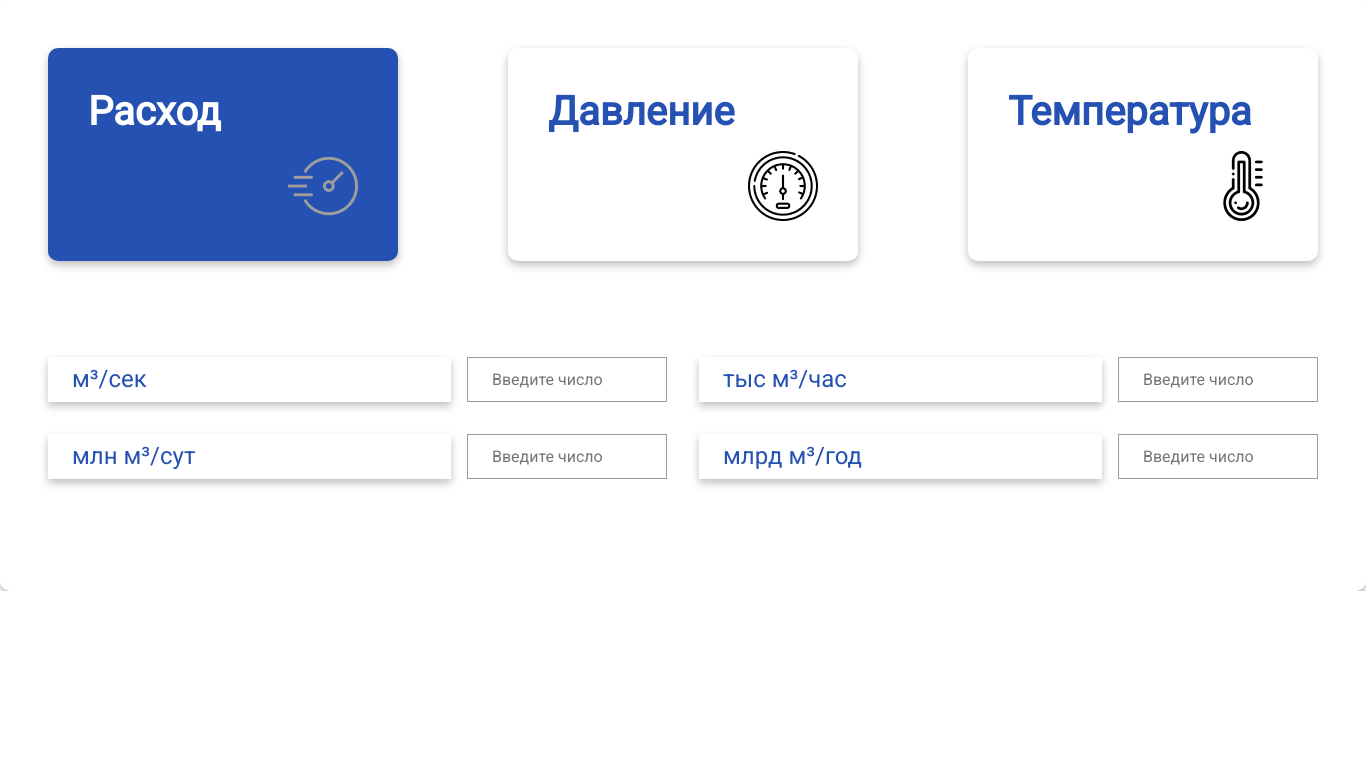
Test: testing Calc component › should toggle forms
The image size is (1366, 768).
Expected: the form with test id "consum-form" is shown, [48, 357, 1318, 479]
Click the text "Давление": (641,112) [548, 88, 734, 135]
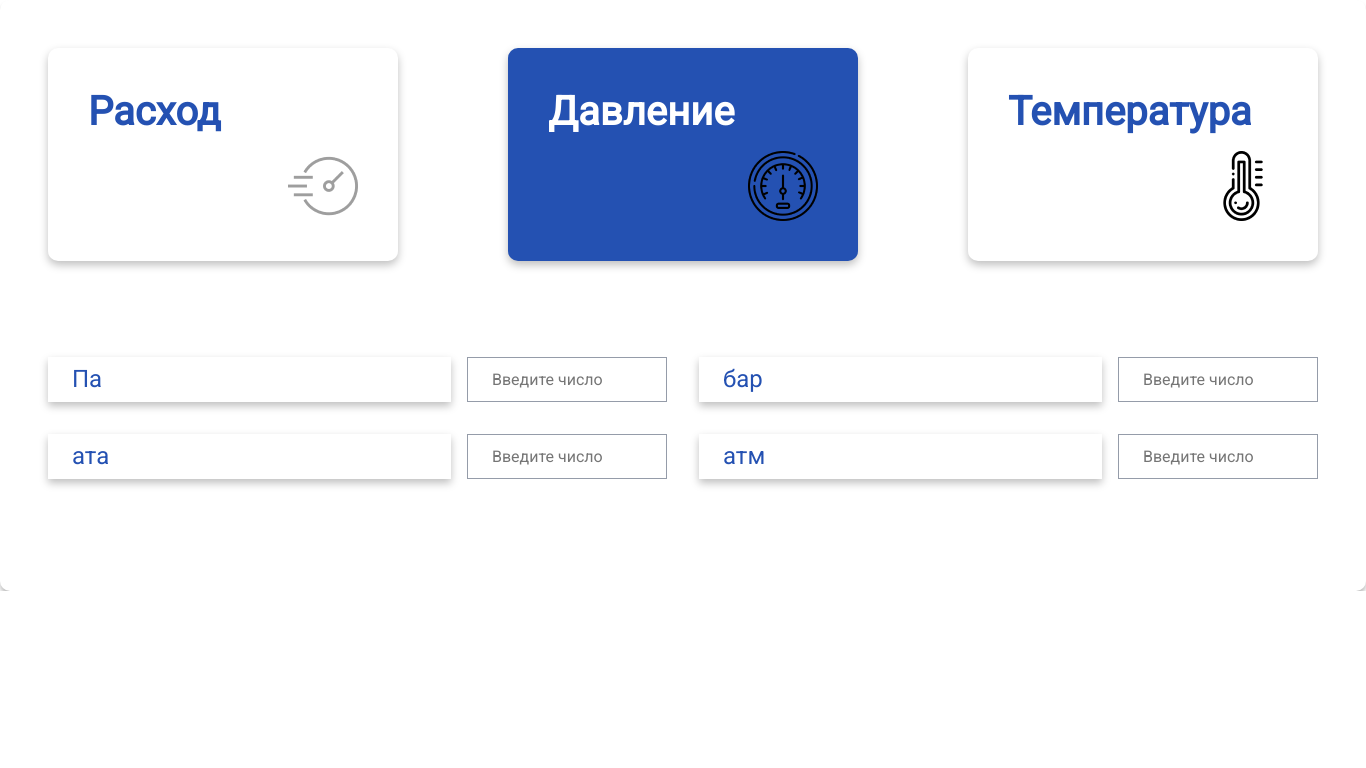
Now the form with test id "consum-form" is gone
Now the form with test id "press-form" is shown, box [48, 357, 1318, 479]
Click the text "Температура": (1143,112) [1008, 88, 1278, 135]
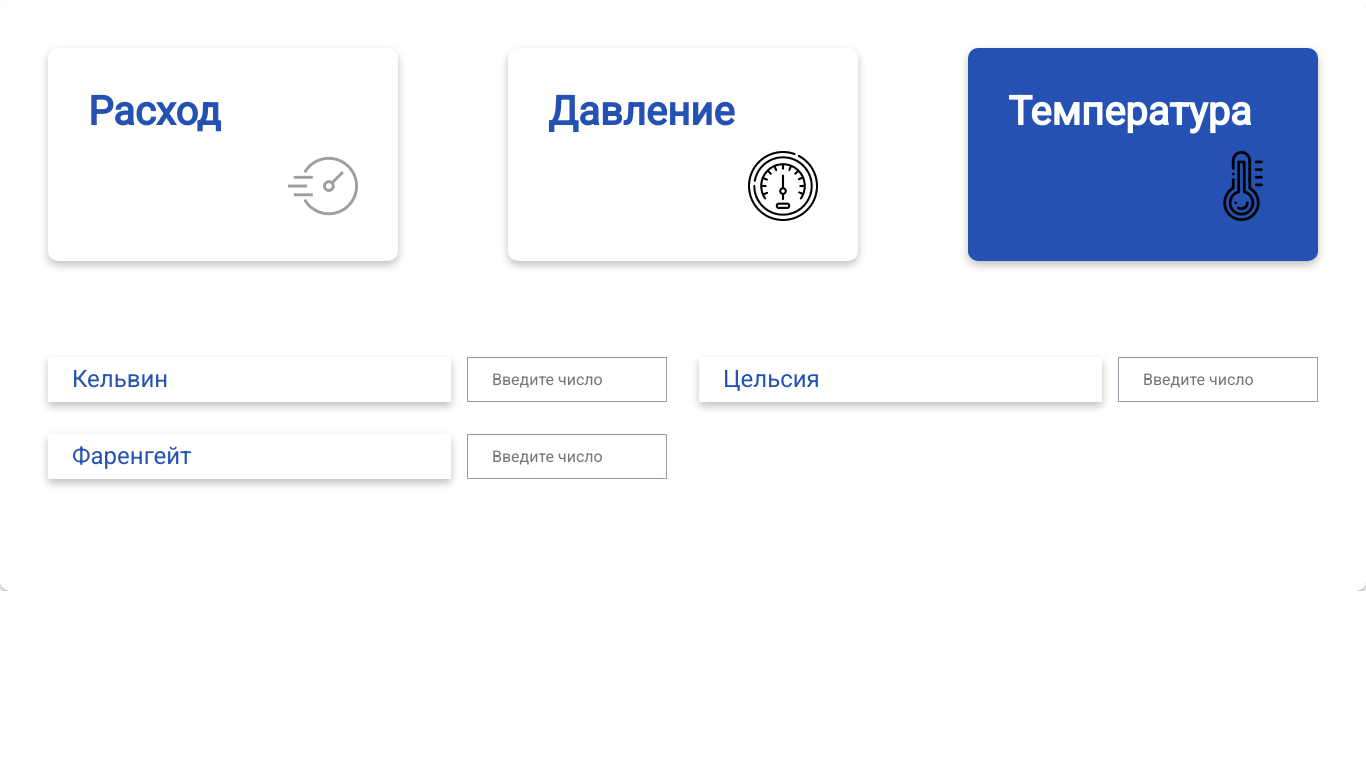
Now the form with test id "press-form" is gone
Now the form with test id "temp-form" is shown, box [48, 357, 1318, 479]
Click the text "Расход": (154,112) [88, 88, 221, 135]
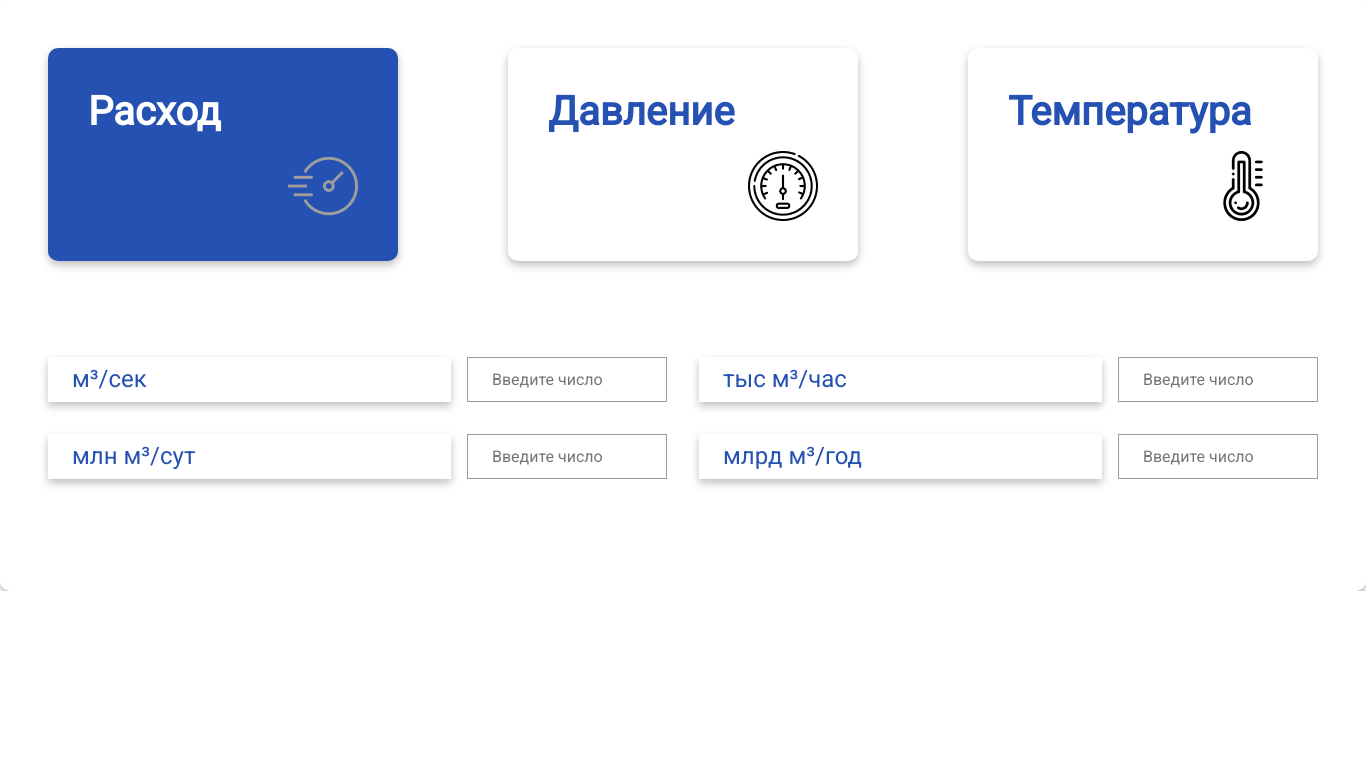
Now the form with test id "consum-form" is shown, box [48, 357, 1318, 479]
Now the form with test id "temp-form" is gone
